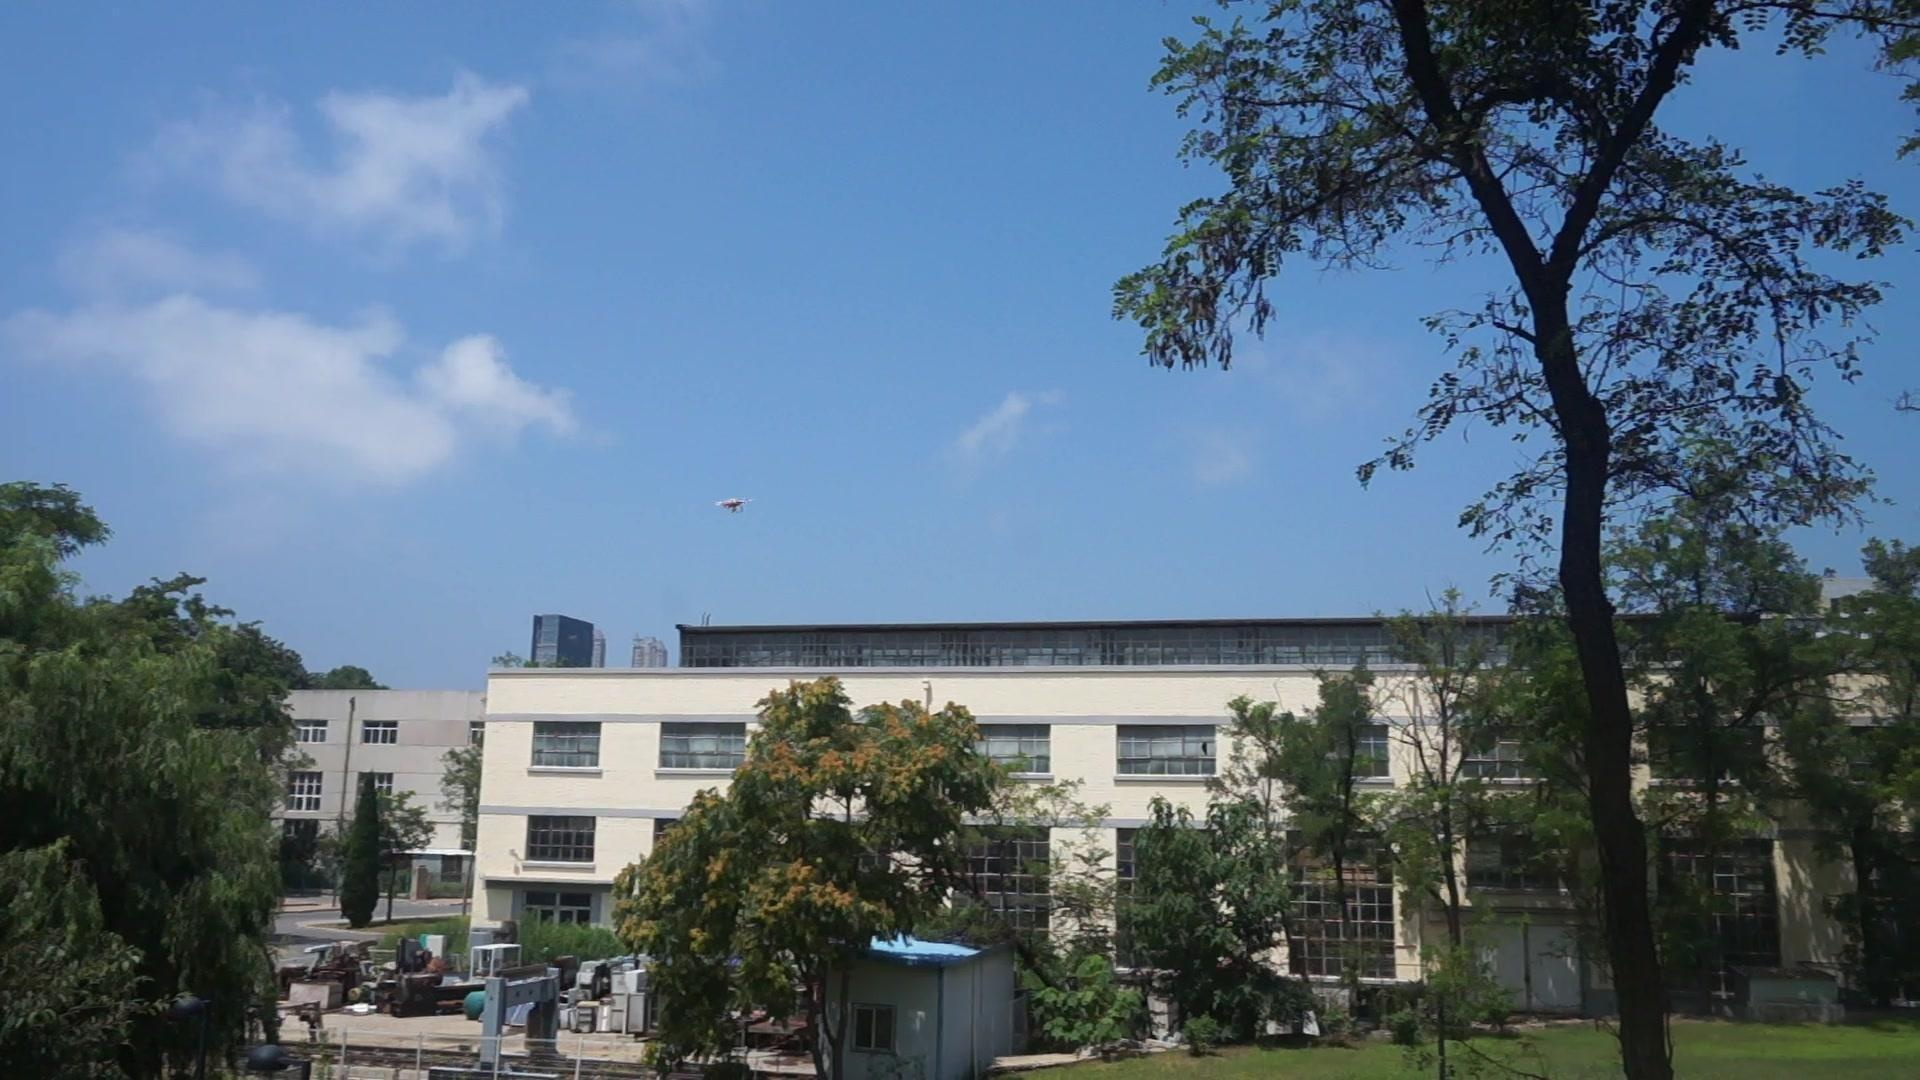UAV: (715, 497, 758, 514)
